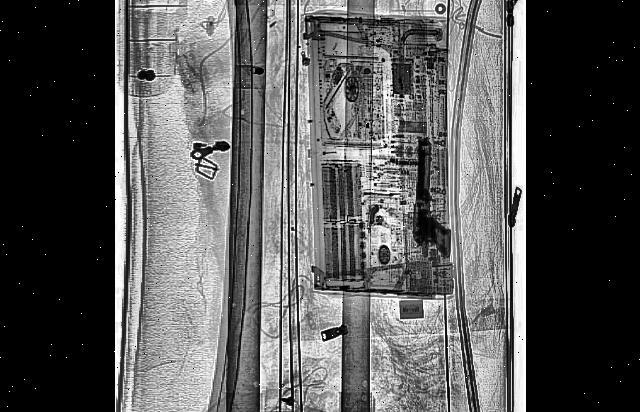Gun: (408, 132, 458, 260)
